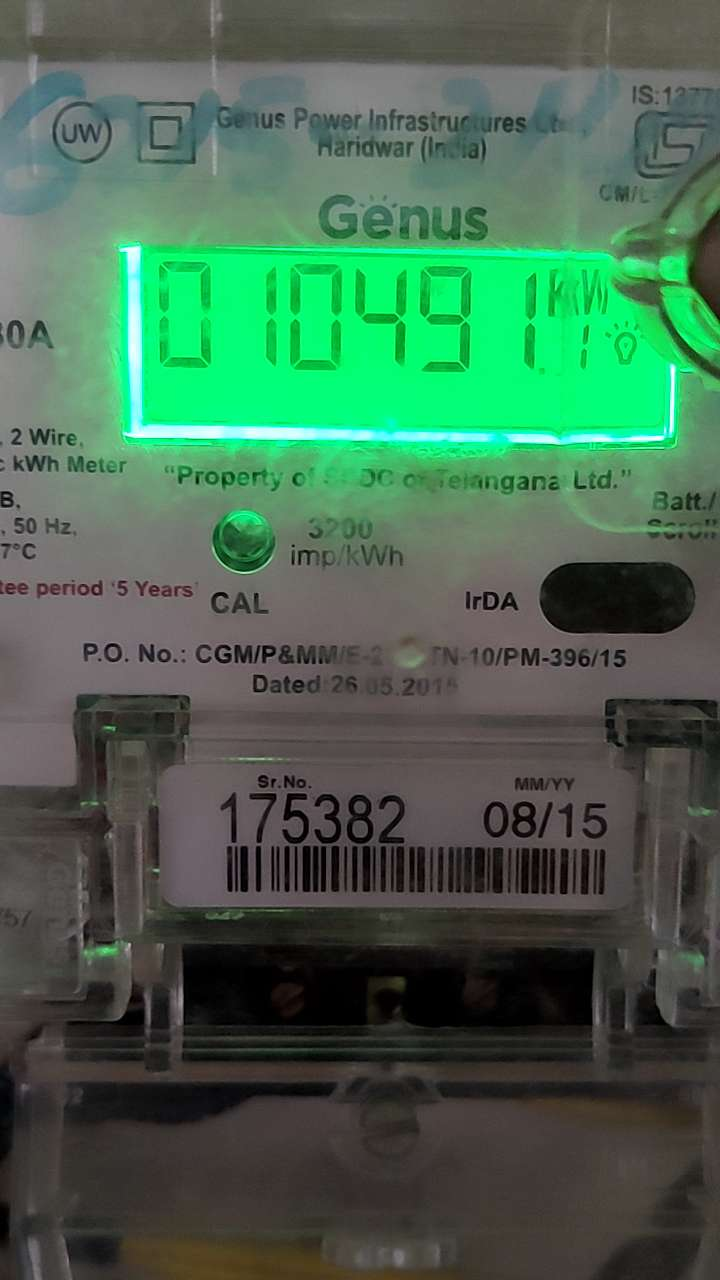meter_serial_number: (214, 788, 415, 844)
